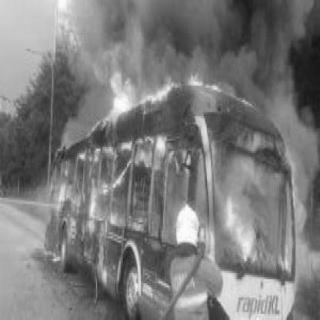Fire: (37, 65, 299, 277)
